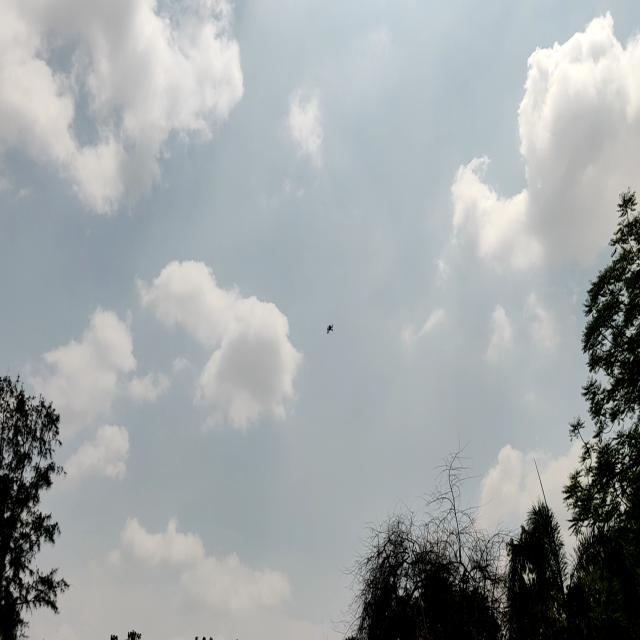drone: (322, 315, 337, 339)
